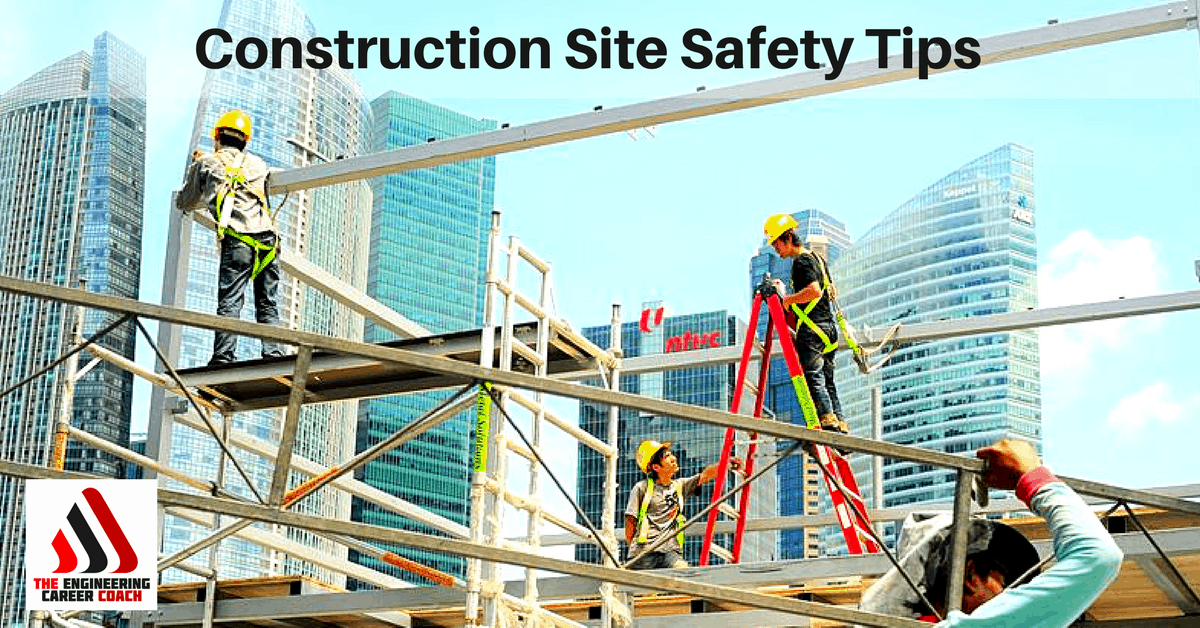With Helmet: (631, 433, 683, 483), (207, 107, 257, 150), (761, 212, 807, 258)
